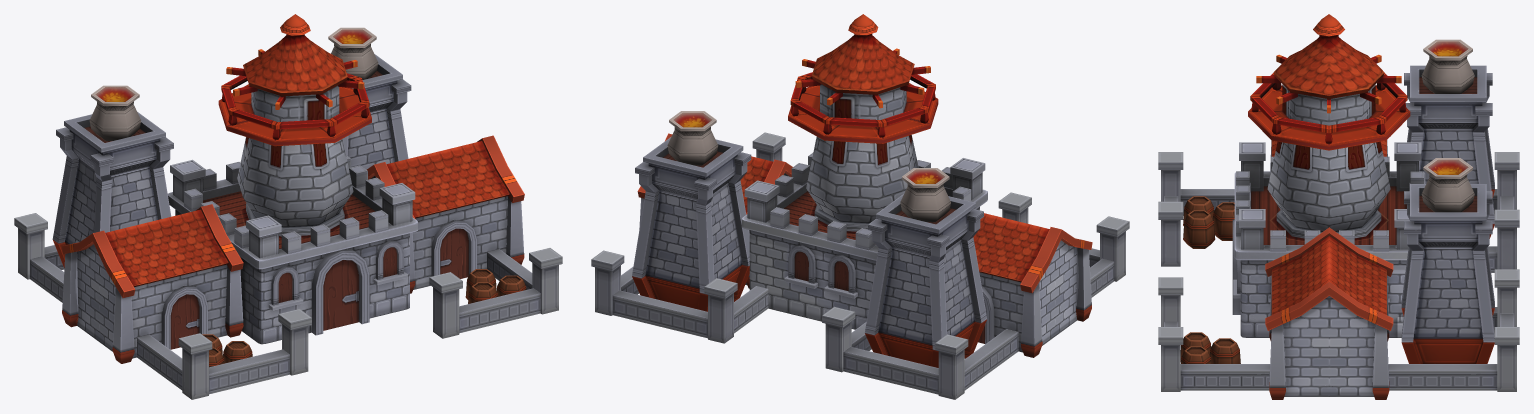
The model's file is GIANT_Fort.FBX.
3 renders of one model, left to right at view 1: azimuth 30°, elevation 25°; view 2: azimuth 150°, elevation 25°; view 3: azimuth 270°, elevation 25°, orthographic. The views are drawn at different scales.
Visible parts, largest first — view 1: FORT, Fire_Post1, Fire_Post2, Barrel003, Barrel006, Barrel004; view 2: FORT, Fire_Post1, Fire_Post2; view 3: FORT, Fire_Post2, Fire_Post1, Barrel003, Barrel001, Barrel005, Barrel004, Barrel002, Barrel006.
Part boxes in pixels (x1,y1,x2,y2): FORT: [14, 14, 562, 399]; Fire_Post1: [52, 85, 173, 267]; Fire_Post2: [328, 27, 411, 169]; Barrel003: [223, 341, 252, 363]; Barrel006: [468, 282, 497, 303]; Barrel004: [497, 275, 526, 296]; FORT: [591, 14, 1129, 399]; Fire_Post1: [865, 168, 986, 367]; Fire_Post2: [632, 111, 751, 311]; FORT: [1158, 14, 1519, 399]; Fire_Post2: [1401, 158, 1494, 363]; Fire_Post1: [1404, 39, 1494, 238]; Barrel003: [1183, 210, 1215, 248]; Barrel001: [1213, 202, 1234, 240]; Barrel005: [1210, 338, 1240, 363]; Barrel004: [1181, 346, 1211, 363]; Barrel002: [1183, 196, 1214, 225]; Barrel006: [1180, 332, 1211, 361].
Bounding box in the file's own units: 345 × 232 × 261.
